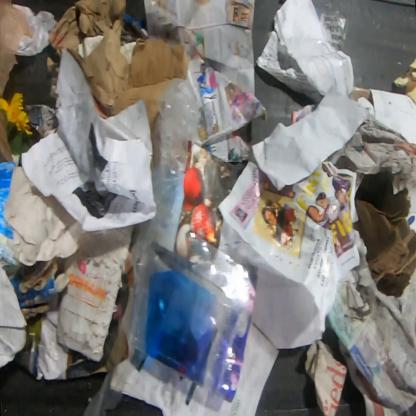cardboard: (46, 0, 190, 134), (56, 223, 135, 362), (349, 164, 416, 298), (0, 161, 27, 269)
soft_plastic: (127, 231, 257, 406), (132, 76, 204, 278), (0, 0, 33, 162)
